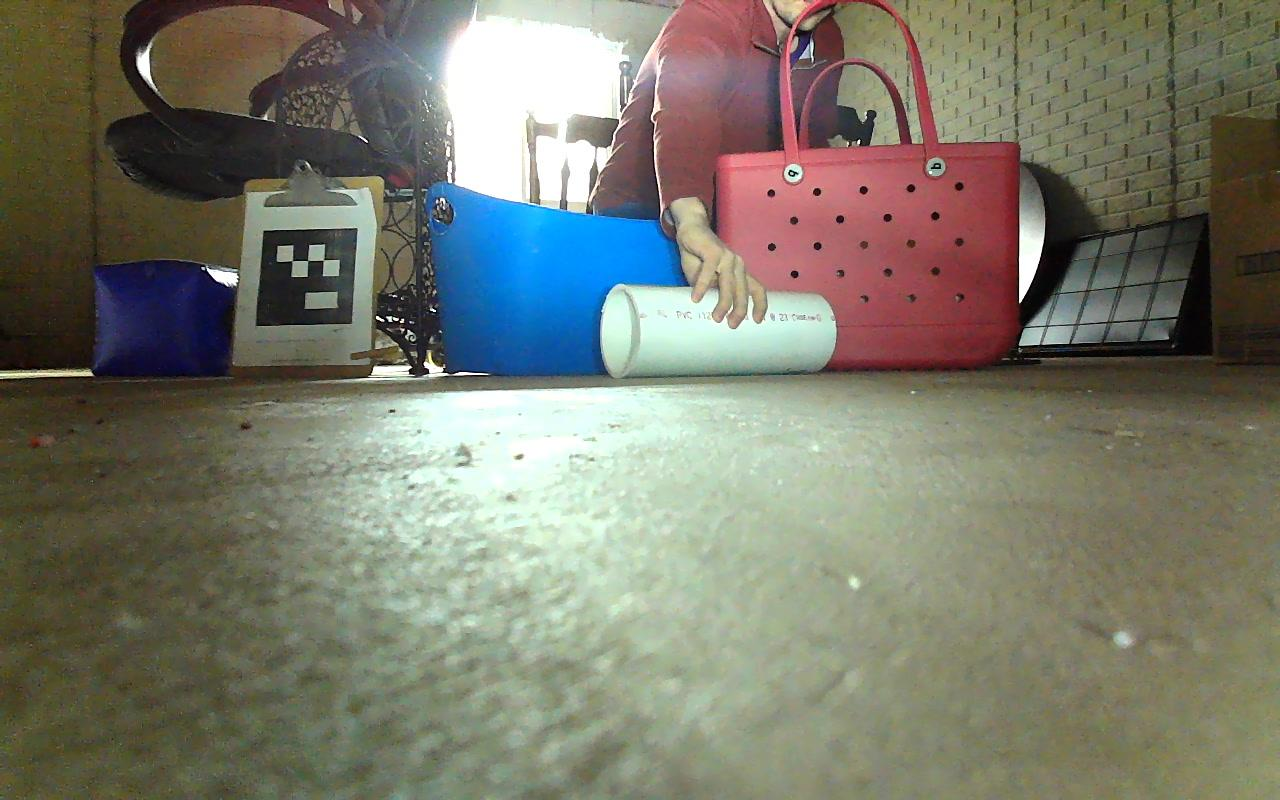coral: (600, 283, 837, 375)
